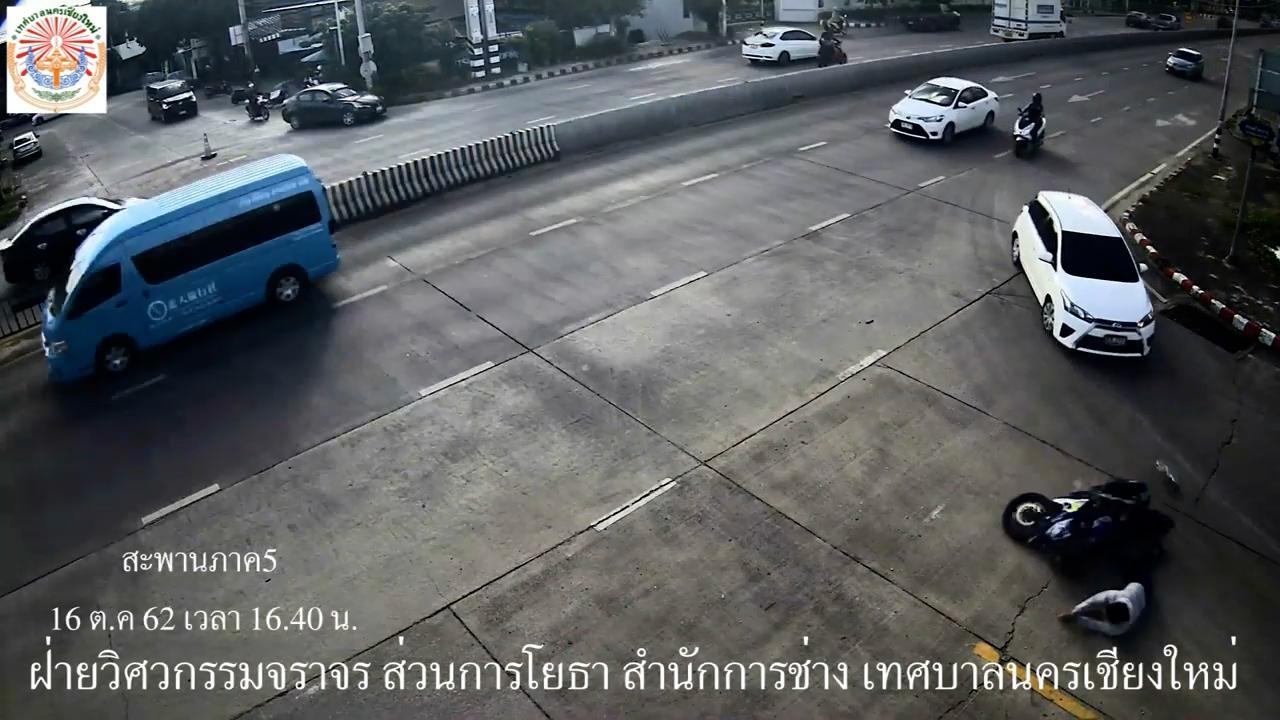accident: (1058, 577, 1156, 641)
